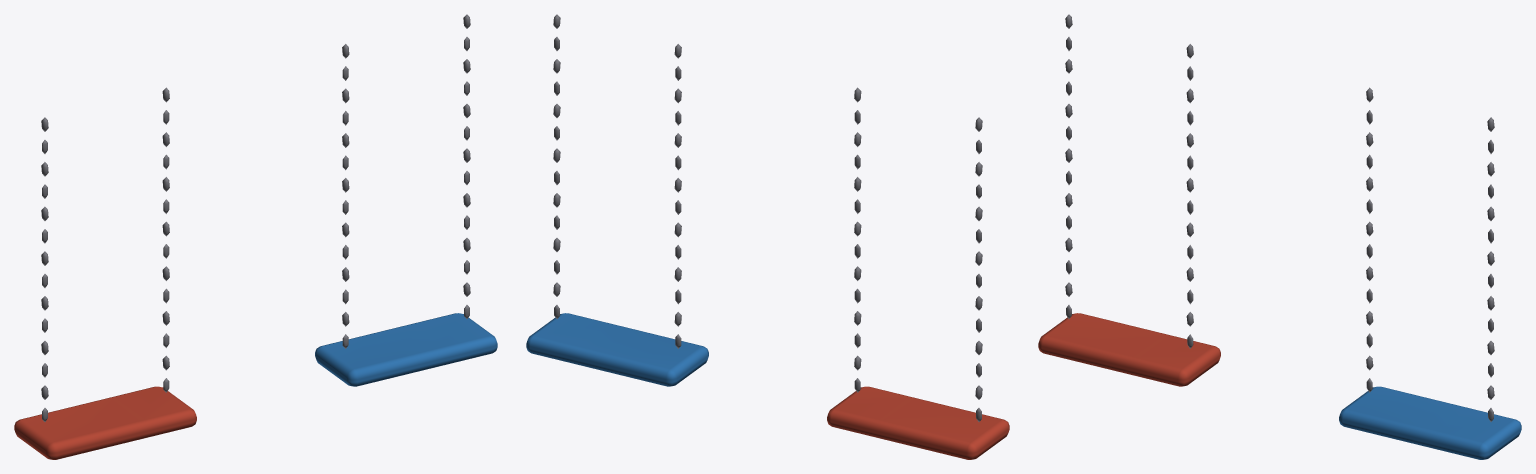
The model's file is swing_set_sails.glb.
3 views of the same model, side by side, from view 1: azimuth 30°, elevation 25°; view 2: azimuth 150°, elevation 25°; view 3: azimuth 330°, elevation 25° (orthographic).
Parts seen in each view (by area): view 1: swing_set_seats; view 2: swing_set_seats; view 3: swing_set_seats.
Part boxes in pixels (box(x1,y1,x2,y2)): swing_set_seats: box(14, 14, 497, 459); swing_set_seats: box(526, 14, 1009, 459); swing_set_seats: box(1038, 14, 1521, 459).
Size of the model in its own units: 1.86 by 1.3 by 0.28.
